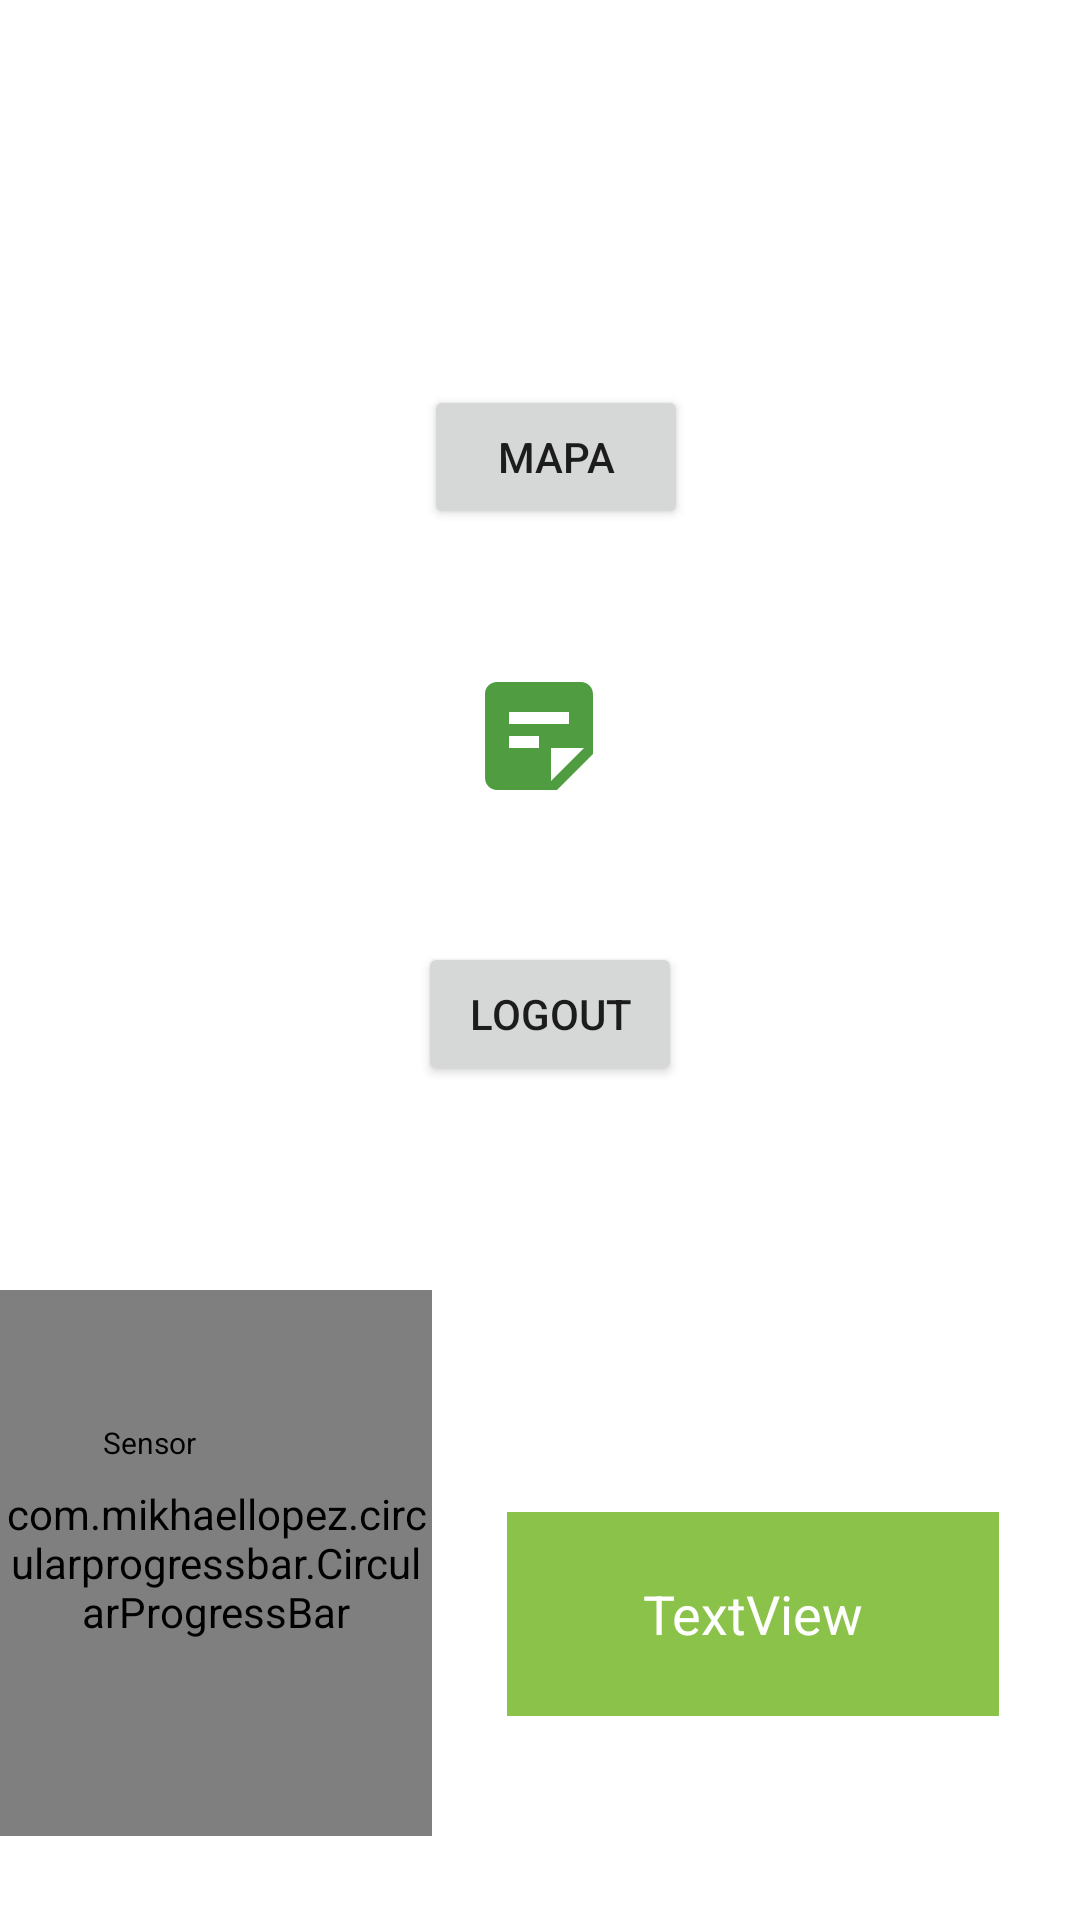

Where icons sit on this 1080 × 1920 app screen, as (x1, y1, x2, y2):
sticky note: (485, 682, 593, 790)
